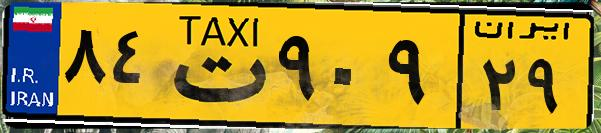0: (330, 28, 385, 110)
2: (475, 38, 525, 113)
4: (110, 28, 158, 98)
8: (57, 26, 110, 100)
9: (270, 28, 330, 110), (385, 28, 445, 110), (525, 38, 570, 115)
ت: (158, 12, 270, 120)
